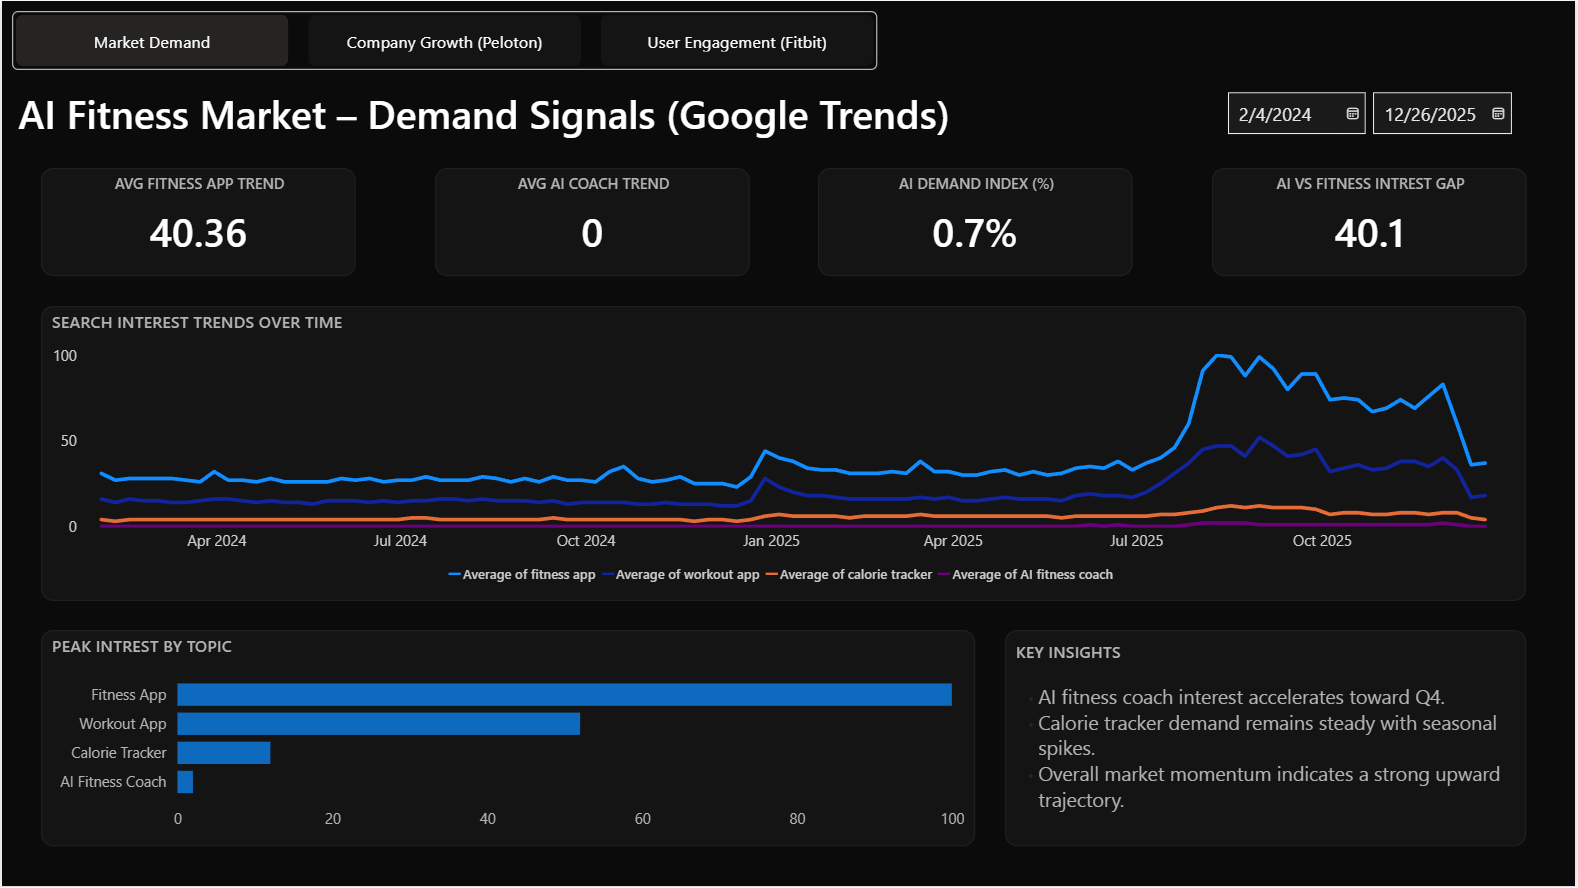

This screenshot's page, from the dashboard's own definition file:
{"tool":"powerbi","page":{"name":"Market Demand ","canvas":[1280,720],"ordinal":0},"visuals":[{"type":"pageNavigator","box":[8,8,704,48],"z":0},{"type":"textbox","box":[8,64,784,56],"z":1000},{"type":"slicer","fields":{"Values":["Date.Date"]},"box":[984,64,256,56],"z":2000},{"type":"card","title":"AVG FITNESS APP TREND","fields":{"Values":["Date.Trend Fitness App (Avg)"]},"box":[32,136,256,88],"z":3000},{"type":"card","title":"AVG AI COACH TREND","fields":{"Values":["Date.Trend AI Fitness Coach (Avg)"]},"box":[352,136,256,88],"z":4000},{"type":"card","title":"AI DEMAND INDEX (%)","fields":{"Values":["Date.AI Demand Index"]},"box":[664,136,256,88],"z":5000},{"type":"card","title":"AI VS FITNESS INTREST GAP","fields":{"Values":["Date.AI vs Fitness Interest Gap"]},"box":[984,136,256,88],"z":6000},{"type":"lineChart","title":"SEARCH INTEREST TRENDS OVER TIME","fields":{"Category":["Date.Date"],"Y":["Avg(trends_interest_over_time.fitness app)","Avg(trends_interest_over_time.workout app)","Avg(trends_interest_over_time.calorie tracker)","Avg(trends_interest_over_time.AI fitness coach)"]},"box":[32,248,1208,240],"z":7000},{"type":"textbox","box":[816,512,424,176],"z":8000},{"type":"clusteredBarChart","title":"PEAK INTREST BY TOPIC","fields":{"Y":["Date.Peak Interest (Selected Topic)"],"Category":["Trend Topics.Topic"]},"box":[32,512,760,176],"z":9000}]}

Visuals, with their boxes in screenshot pixels (x1, y1, x2, y2), scaled from the page's 1280x720 canvas onto the 1578x888 screenshot:
pageNavigator: crop(10, 10, 878, 69)
textbox: crop(10, 79, 976, 148)
slicer - Date.Date: crop(1213, 79, 1529, 148)
"AVG FITNESS APP TREND" card: crop(39, 168, 355, 276)
"AVG AI COACH TREND" card: crop(434, 168, 750, 276)
"AI DEMAND INDEX (%)" card: crop(819, 168, 1134, 276)
"AI VS FITNESS INTREST GAP" card: crop(1213, 168, 1529, 276)
"SEARCH INTEREST TRENDS OVER TIME" lineChart: crop(39, 306, 1529, 602)
textbox: crop(1006, 631, 1529, 849)
"PEAK INTREST BY TOPIC" clusteredBarChart: crop(39, 631, 976, 849)
